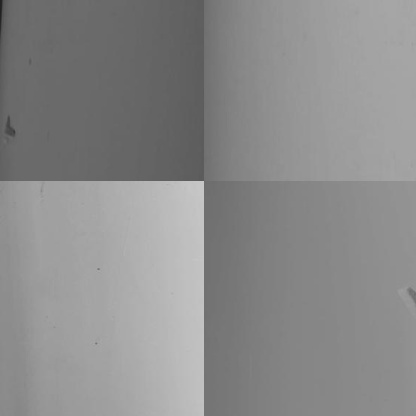sunshang: (396, 284, 415, 312)
